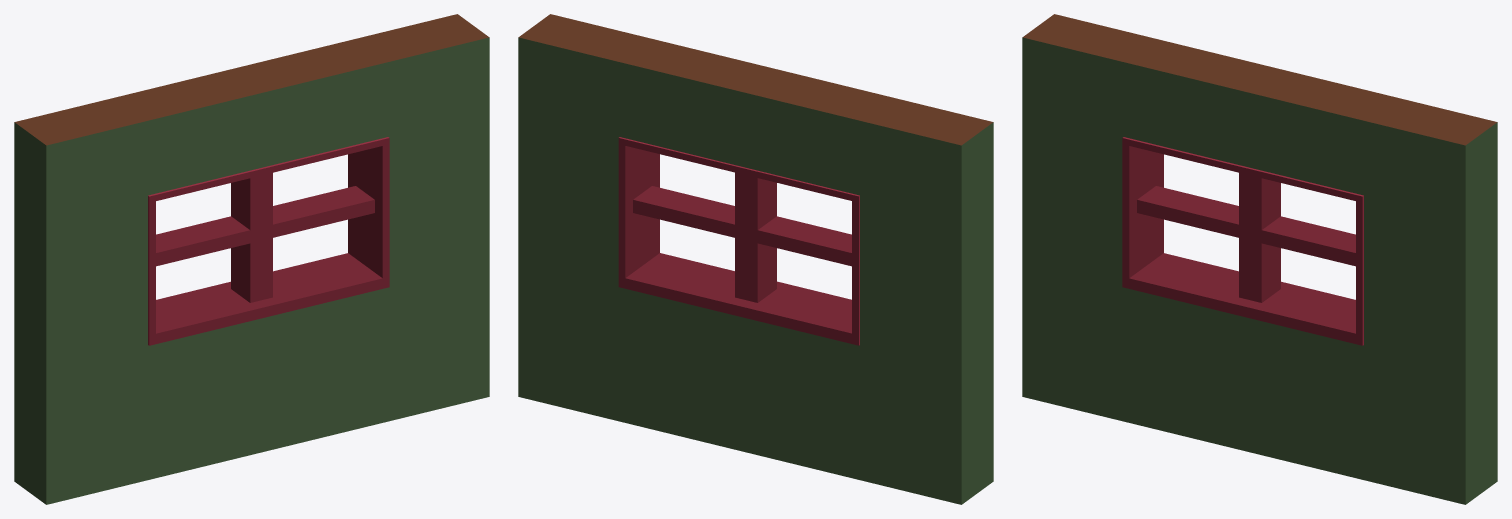
File: BigWindow_01.fbx
The picture shows the model from 3 angles, left to right: view 1: azimuth 30°, elevation 25°; view 2: azimuth 150°, elevation 25°; view 3: azimuth 330°, elevation 25°; orthographic projection.
Parts seen in each view (by area): view 1: BigWindow_02; view 2: BigWindow_02; view 3: BigWindow_02.
Part boxes in pixels (<box>): BigWindow_02: <box>14,14,489,504</box>; BigWindow_02: <box>518,14,993,504</box>; BigWindow_02: <box>1022,14,1497,504</box>.
Size of the model in its own units: 400 by 310 by 54.11.
